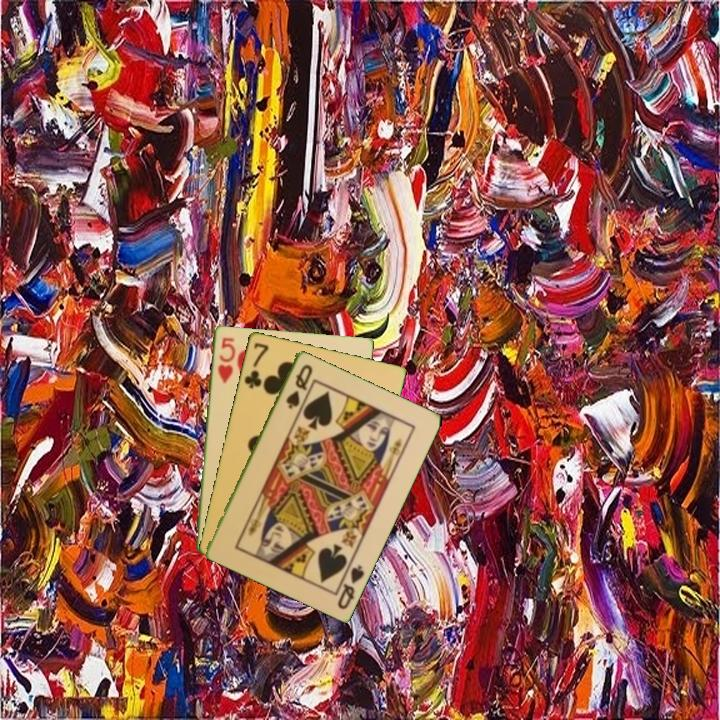5h: (214, 334, 237, 386)
7c: (240, 339, 271, 391)
Qs: (332, 557, 367, 612), (282, 360, 315, 411)
